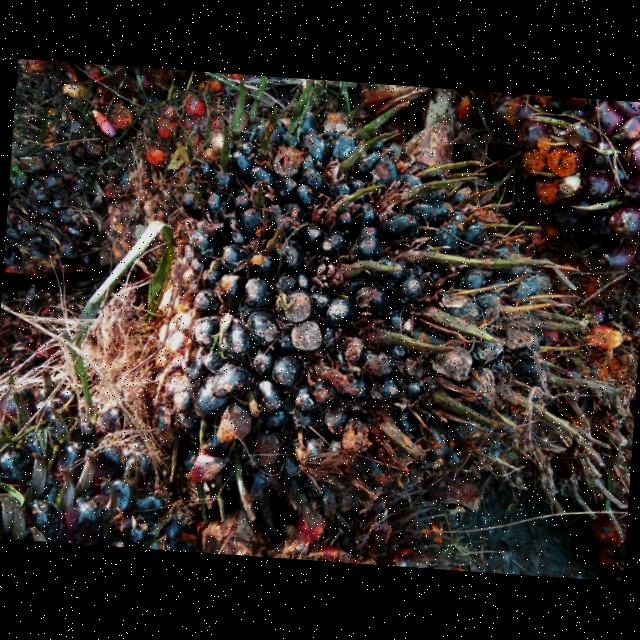Overripe: (474, 92, 640, 269)
Unripe: (148, 113, 583, 532), (8, 61, 188, 276), (0, 390, 208, 552)
